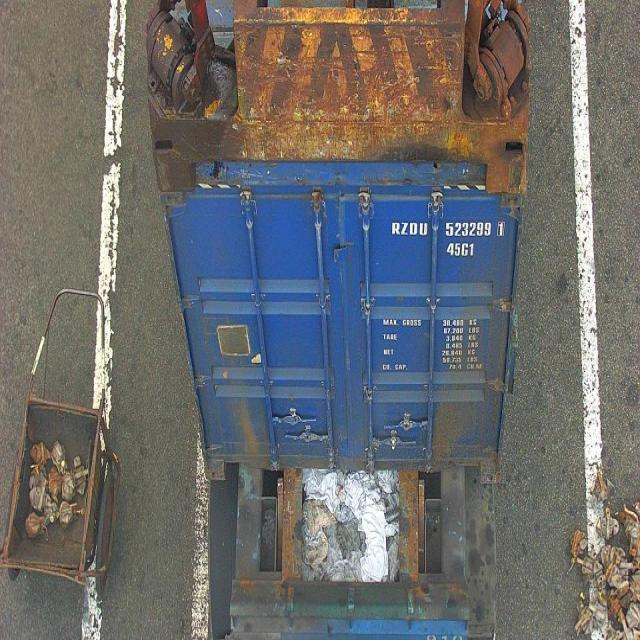ISO: (446, 240, 478, 259)
container_number: (392, 220, 513, 238)
